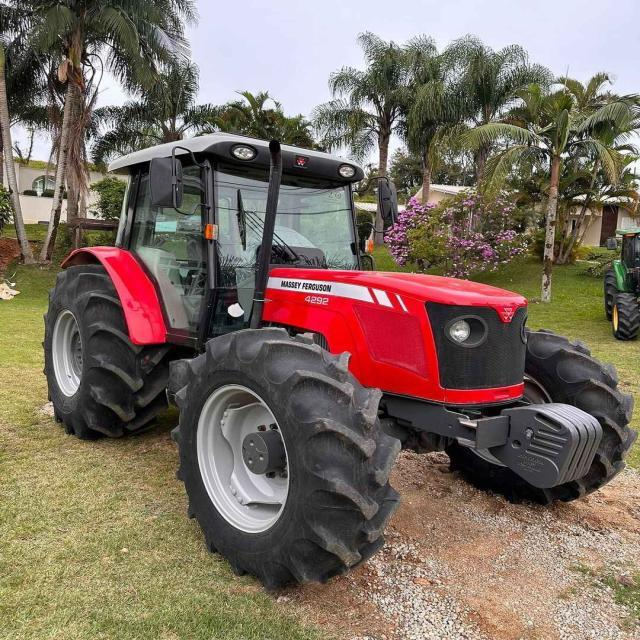Tratores - v5 YOLO V8L 2024-11-13: (43, 139, 631, 586), (602, 237, 640, 340)
